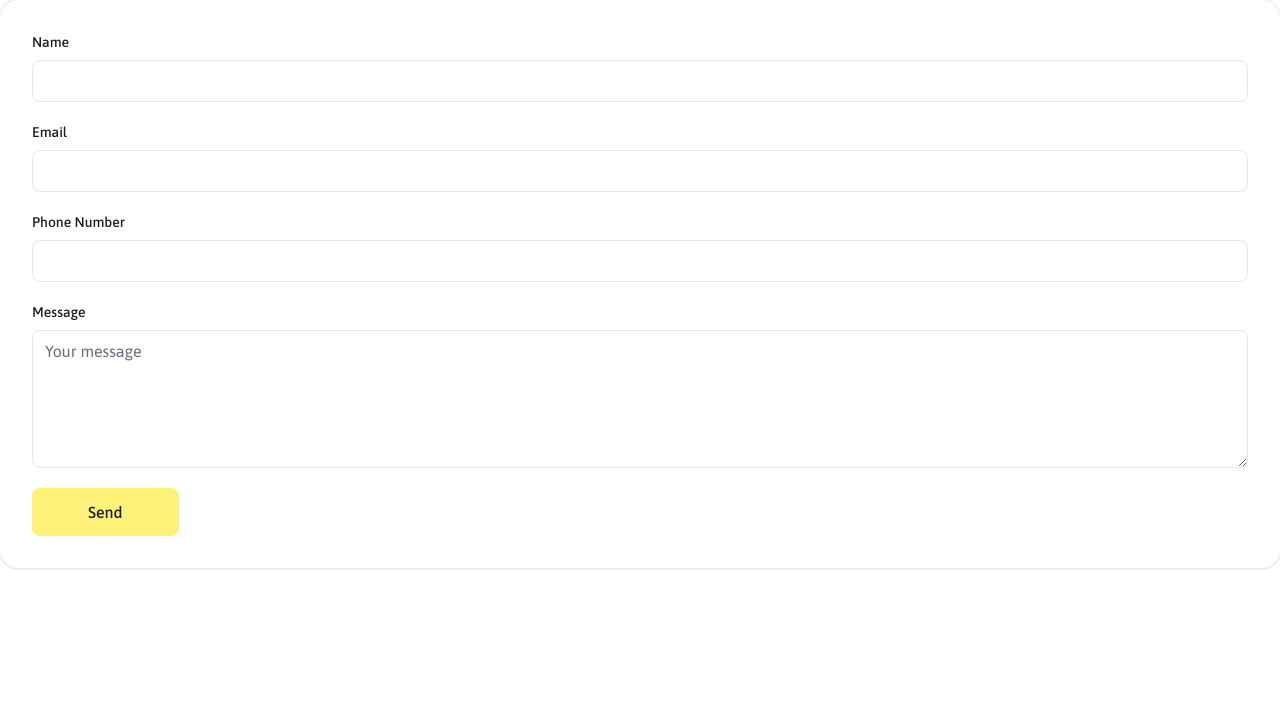
Test: ContactForm › POSTs the form data to /api/contact and shows a success message
The image size is (1280, 720).
Type "Jane Doe" into the field labelled "Name". click: [640, 81]
box: 32,60 -> 1248,102
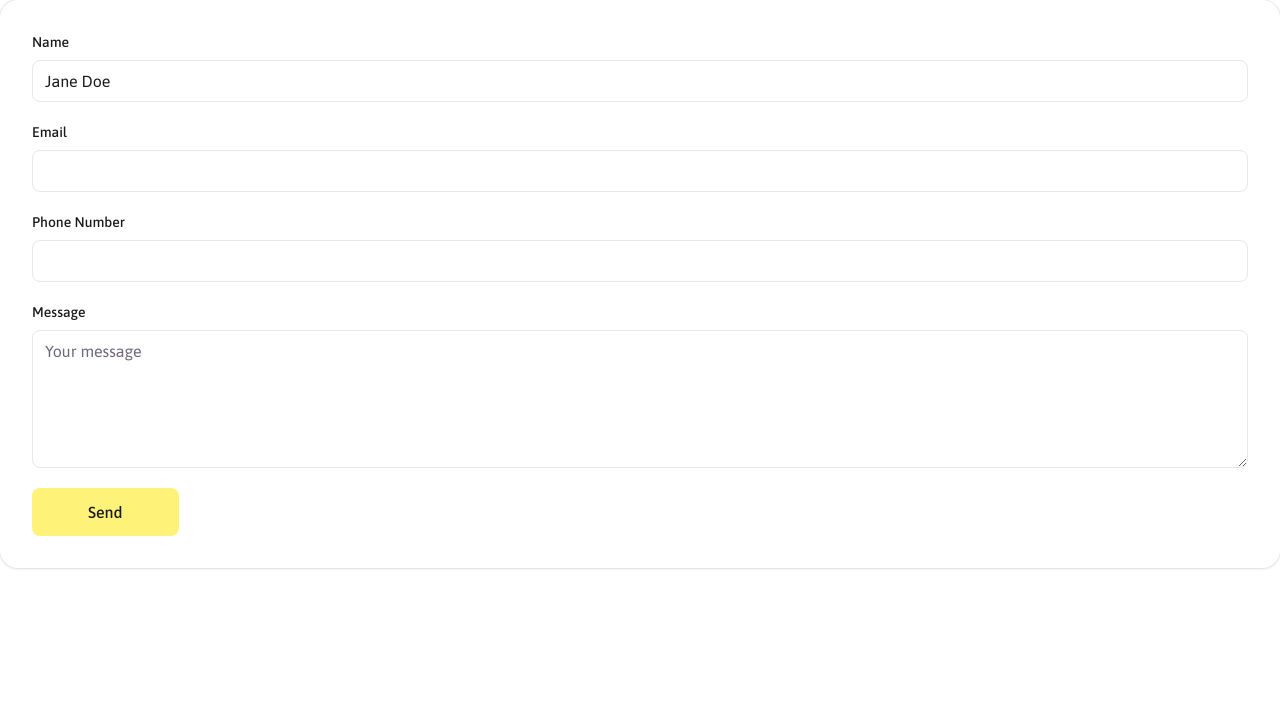
Type "jane@example.com" into the field labelled "Email". click: [640, 171]
box: 32,150 -> 1248,192
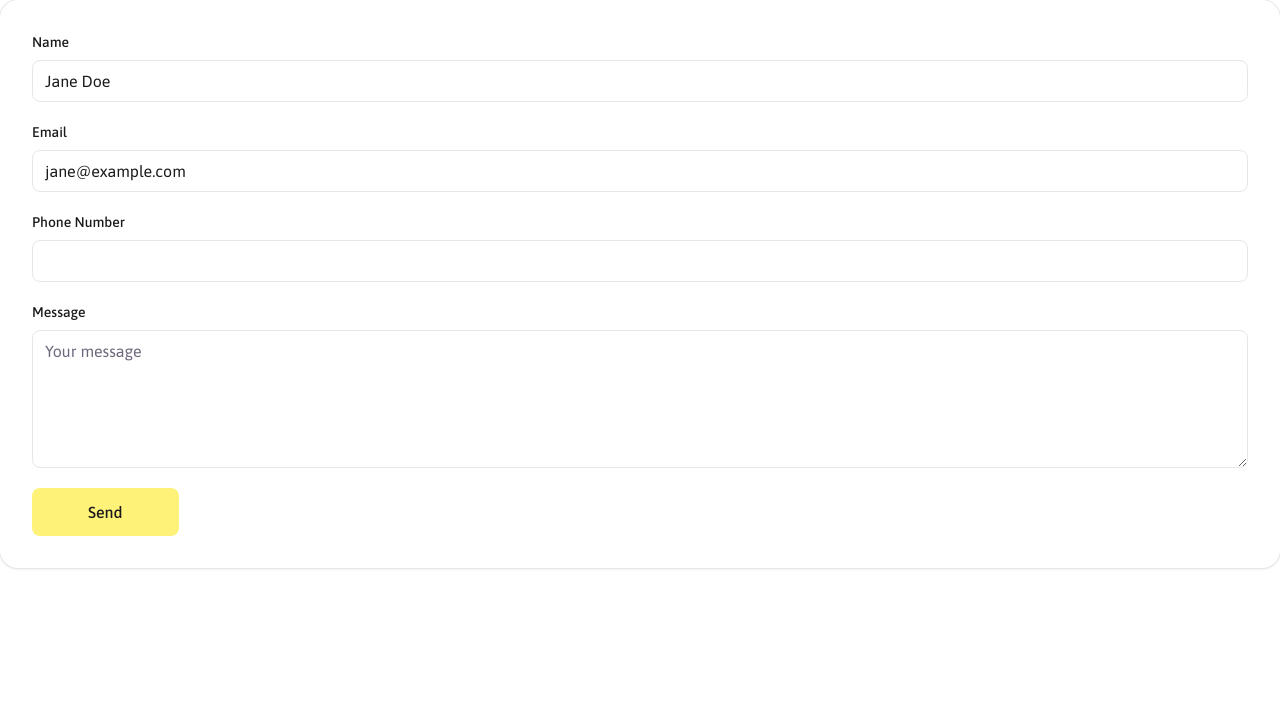
Type "07123456789" into the field labelled "Phone Number". click: [640, 261]
box: 32,240 -> 1248,282
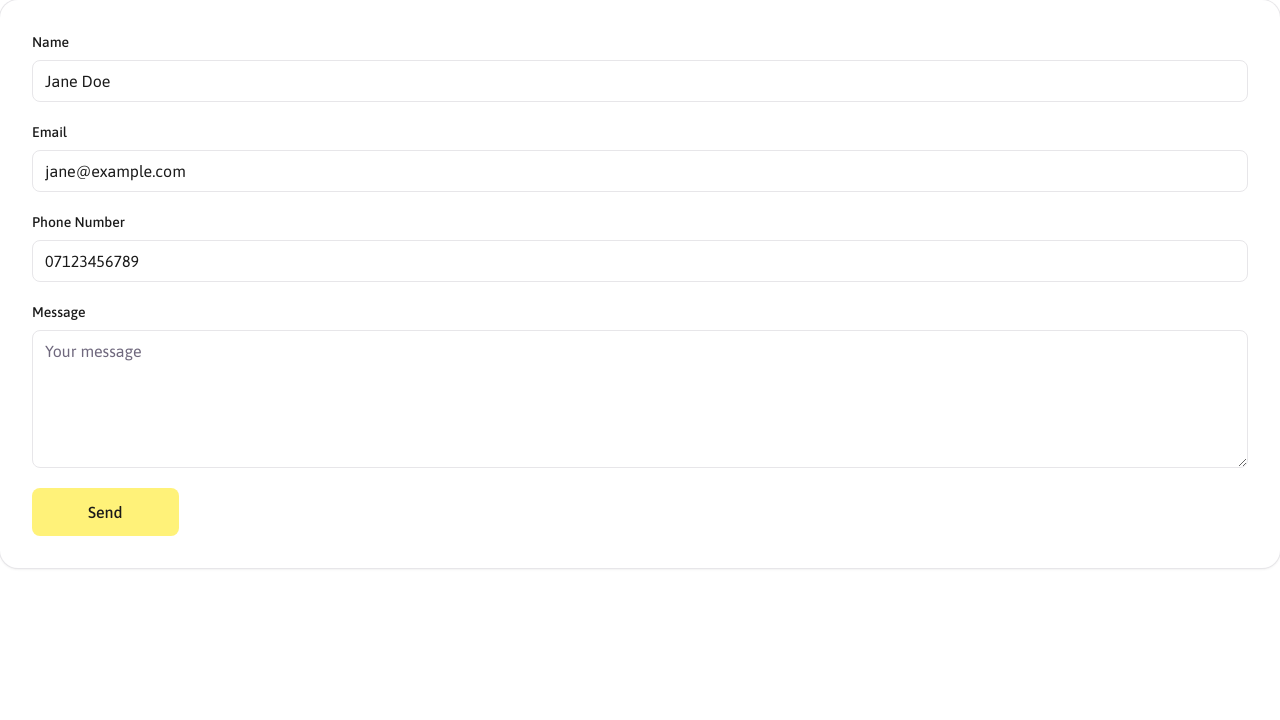
Type "Hello there" into the text box labelled "Message". click: [640, 399]
box: 32,330 -> 1248,468
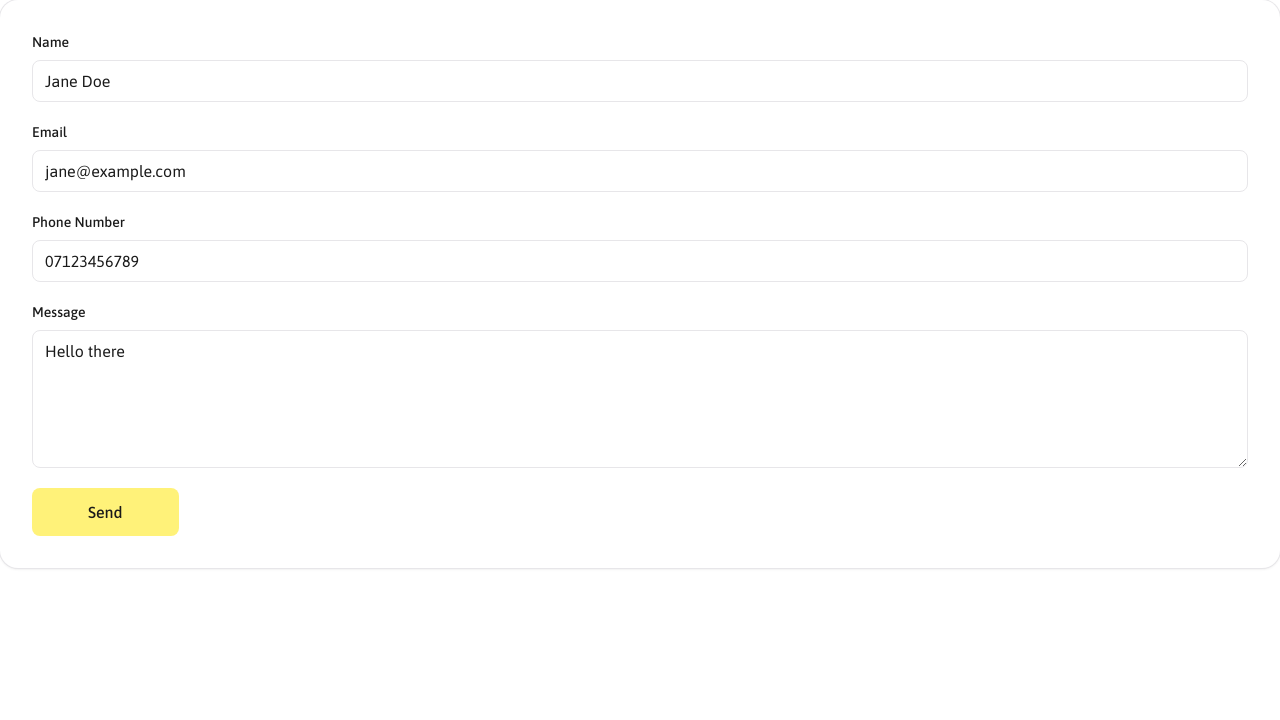
Submit the form
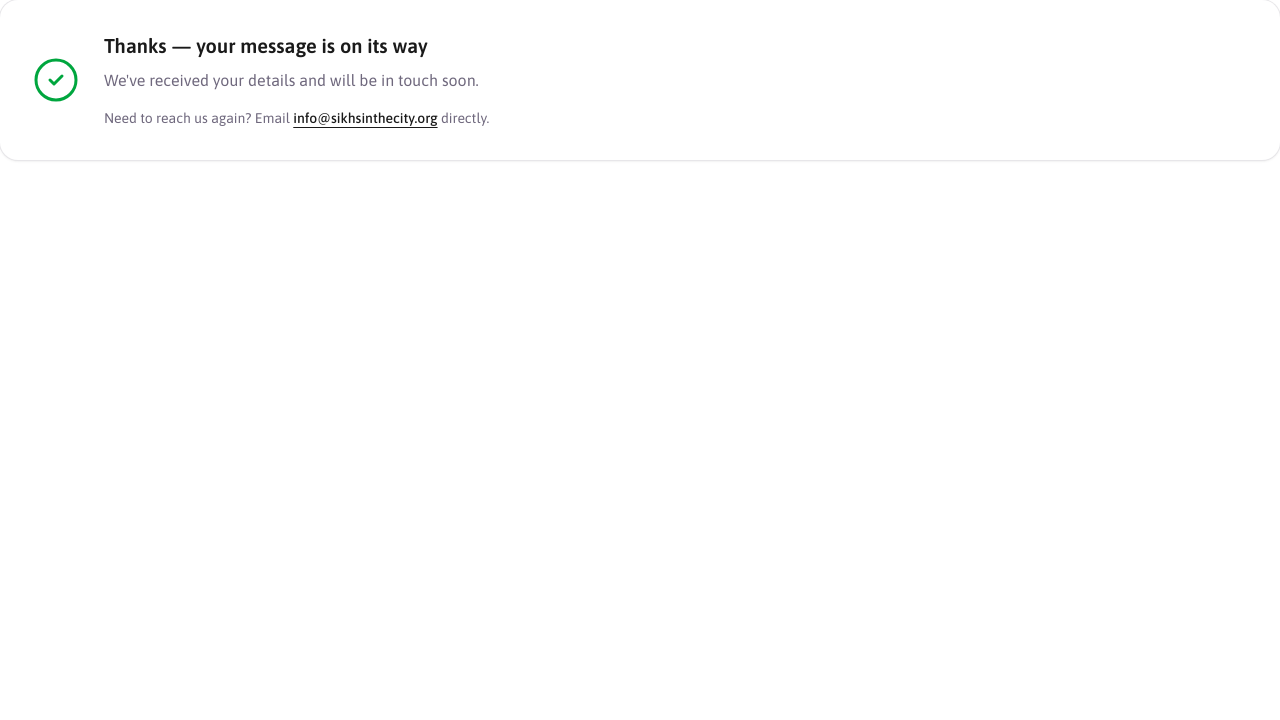
Check: the message is shown, box 0,0 -> 1279,160
Check: the label labelled "Name" is gone
